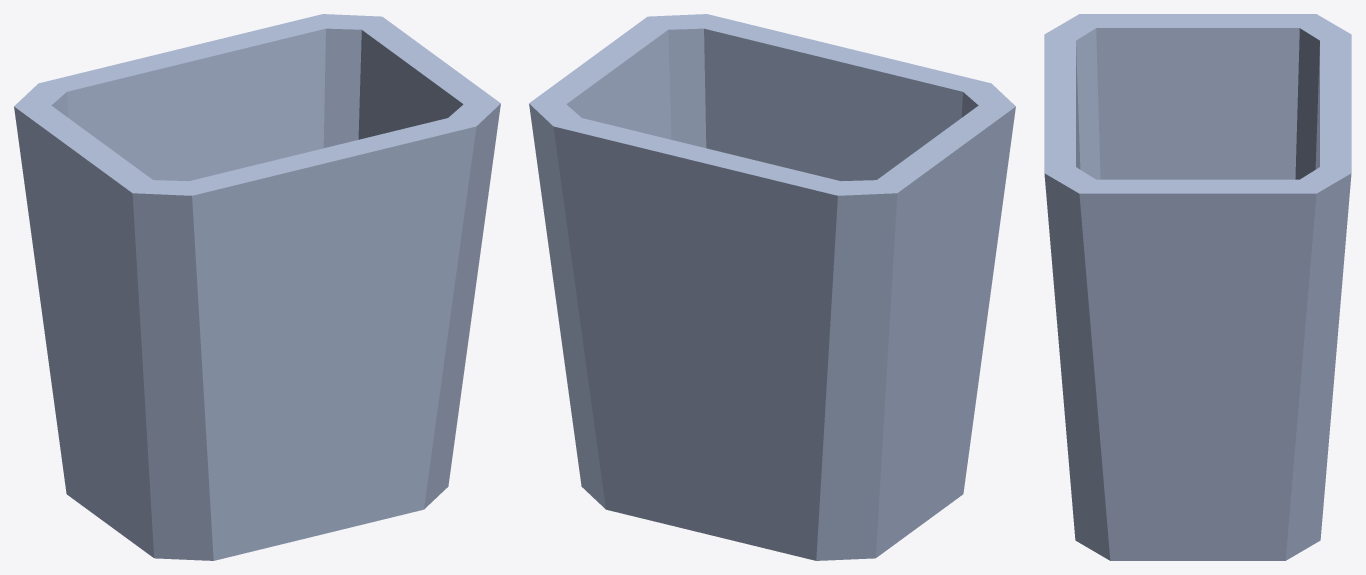
Rendered from Bin.fbx.
3 views of the same model, side by side, from view 1: azimuth 30°, elevation 25°; view 2: azimuth 150°, elevation 25°; view 3: azimuth 270°, elevation 25° (orthographic).
Parts seen in each view (by area): view 1: Bin; view 2: Bin; view 3: Bin.
Boxes of the visible parts, box(x1,y1,x2,y2) form: Bin: box(14, 14, 500, 560); Bin: box(529, 14, 1015, 560); Bin: box(1044, 14, 1351, 560).
Bounding box in the file's own units: 74.62 × 74.62 × 53.88.
